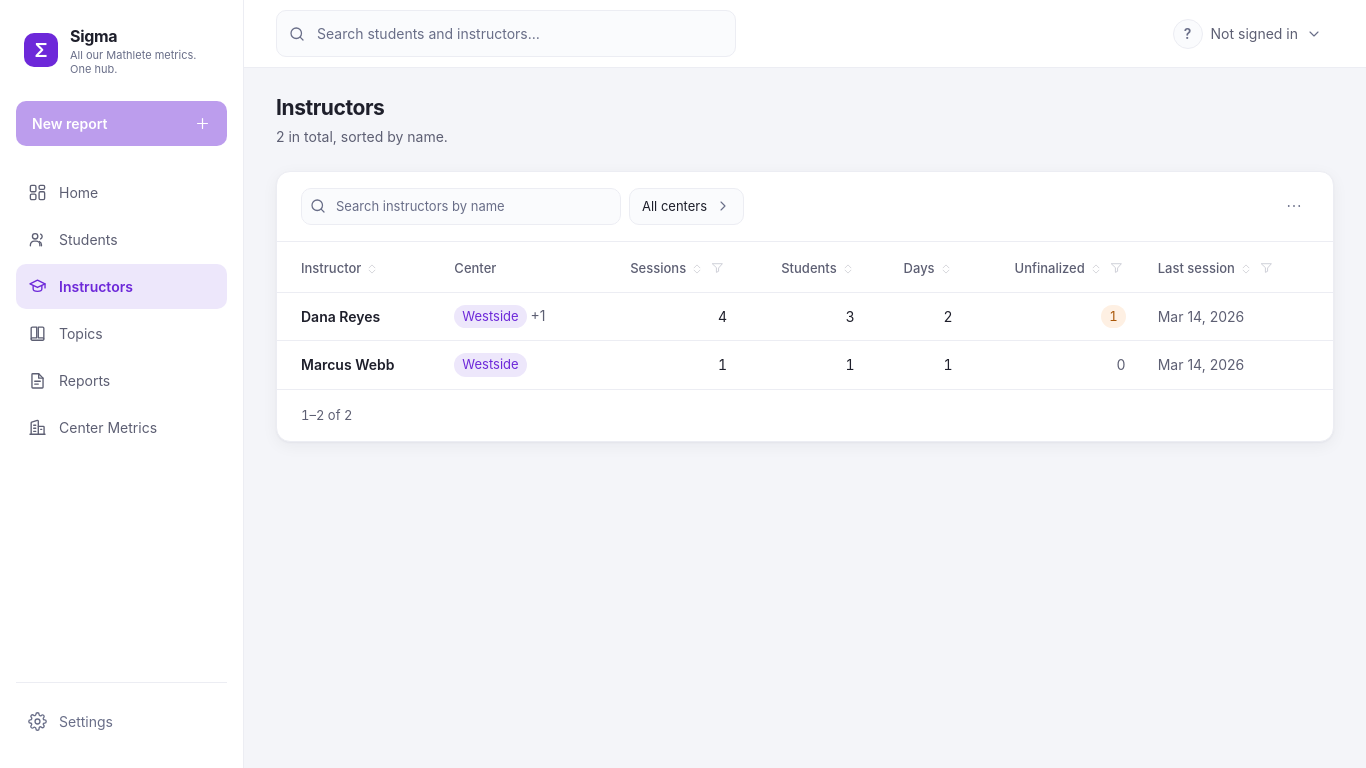
Test: instructors page › closes the panel on Escape and on a click outside it
expect the row "Dana Reyes Westside +1 4 3 2 1 Mar 14, 2026" is shown: met, box x1=277 y1=292 x2=1333 y2=340
Step 1. Click the button "All centers" → {"x": 687, "y": 206}, box x1=629 y1=188 x2=744 y2=225
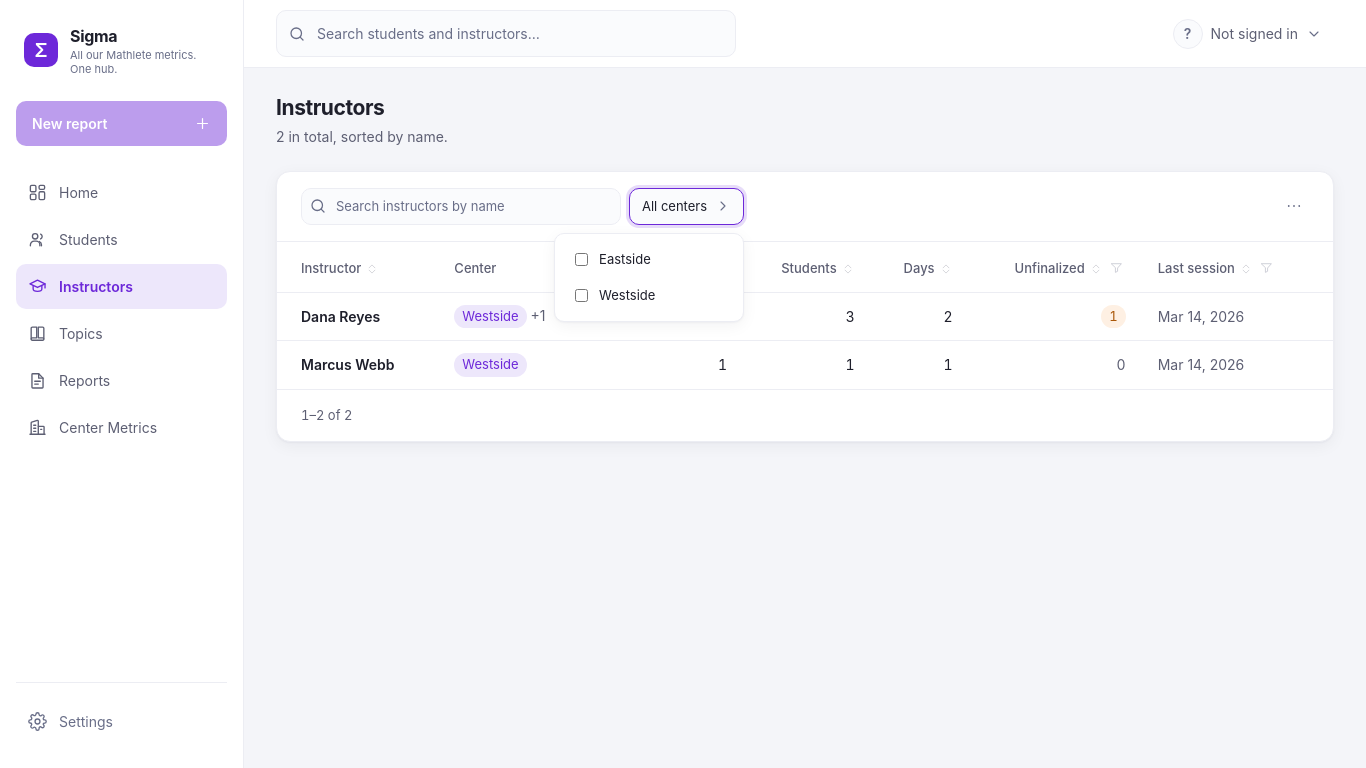
expect the checkbox labelled "Eastside" is shown: met, box x1=575 y1=253 x2=588 y2=266
Step 2. Press Escape
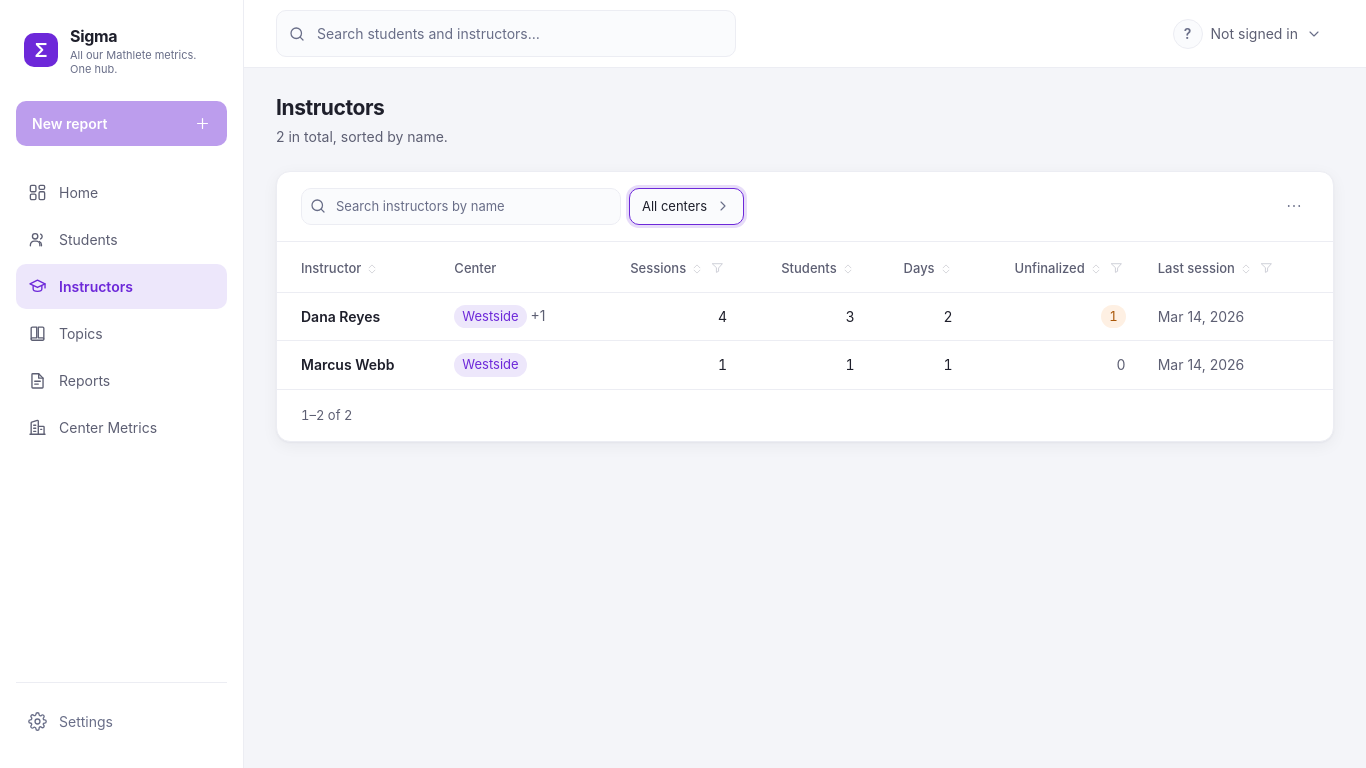
expect the label "Eastside" is gone: met
Step 3. Click the button "All centers" → {"x": 687, "y": 206}, box x1=629 y1=188 x2=744 y2=225
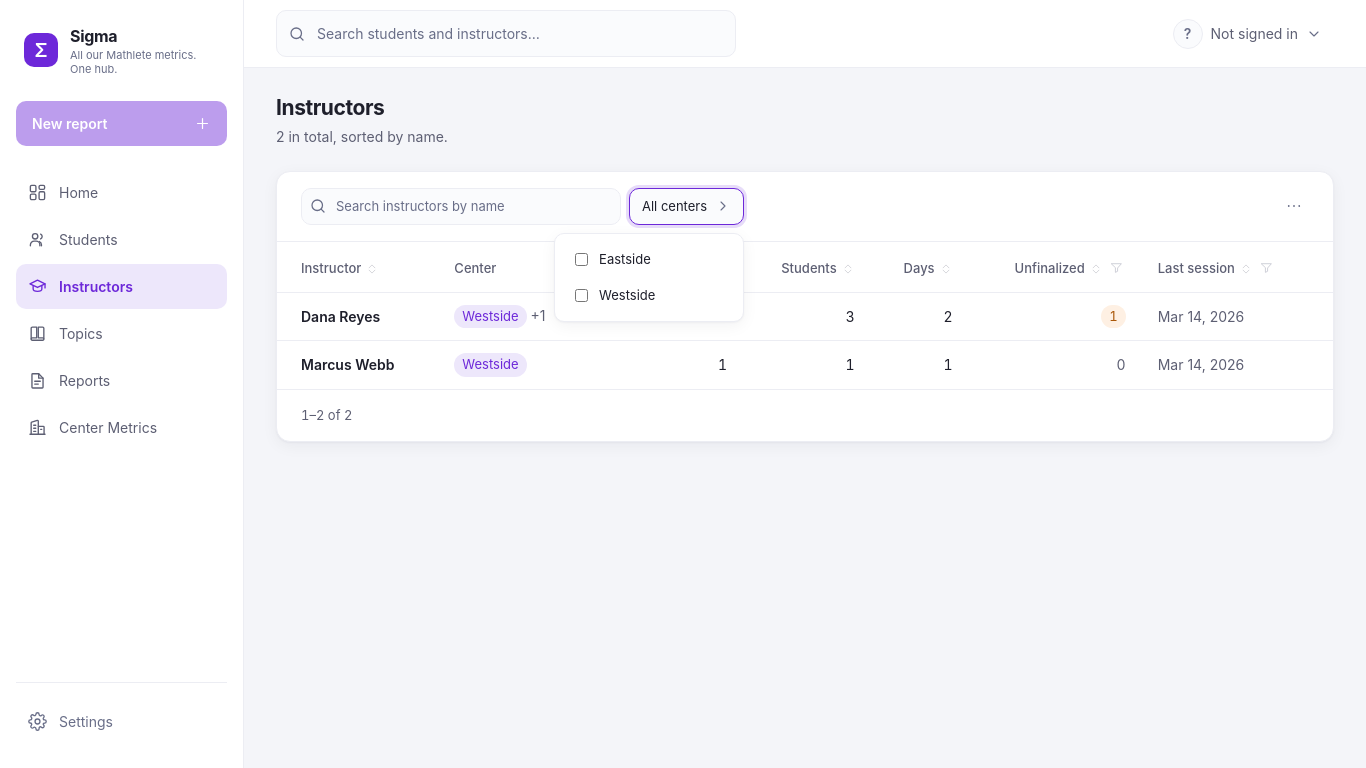
expect the checkbox labelled "Eastside" is shown: met, box x1=575 y1=253 x2=588 y2=266
Step 4. Click the element that starts with "Sigma" → {"x": 683, "y": 384}, box x1=0 y1=0 x2=1365 y2=767
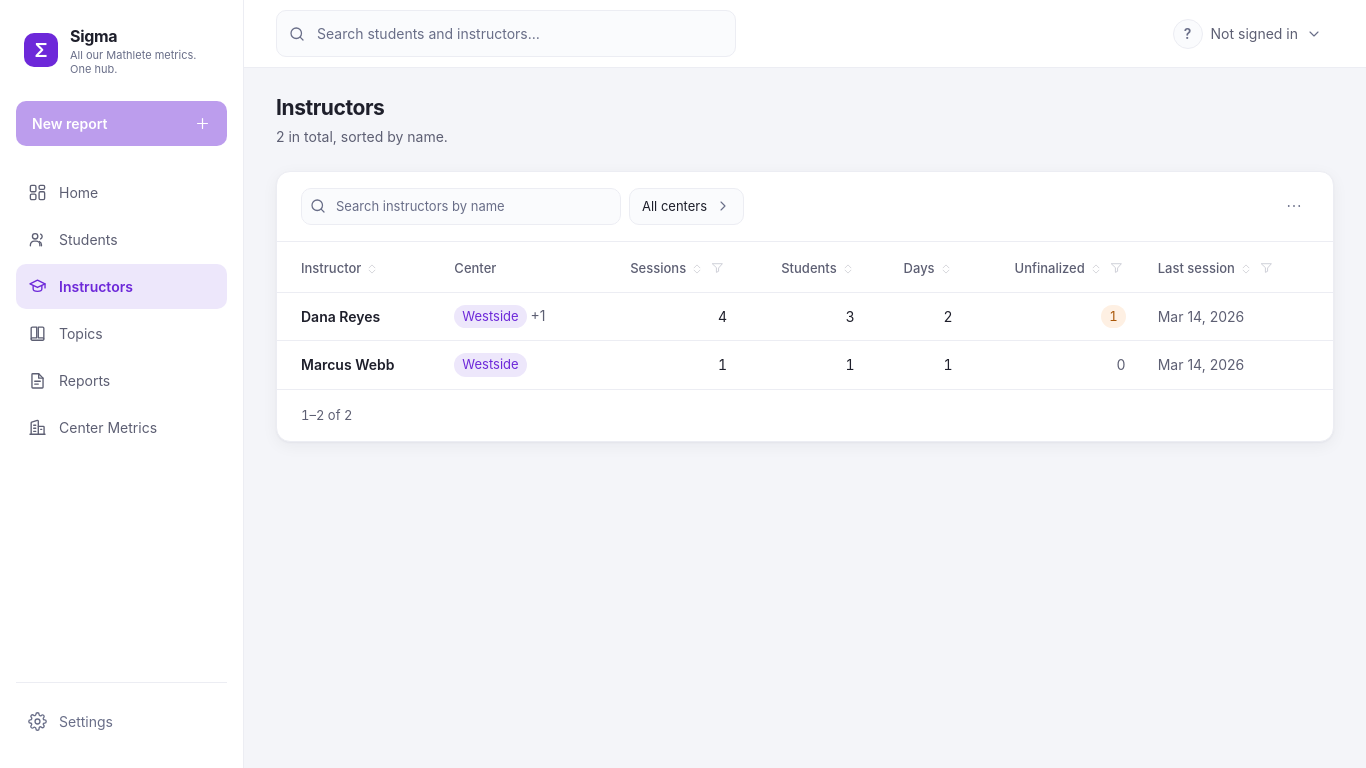
expect the label "Eastside" is gone: met
